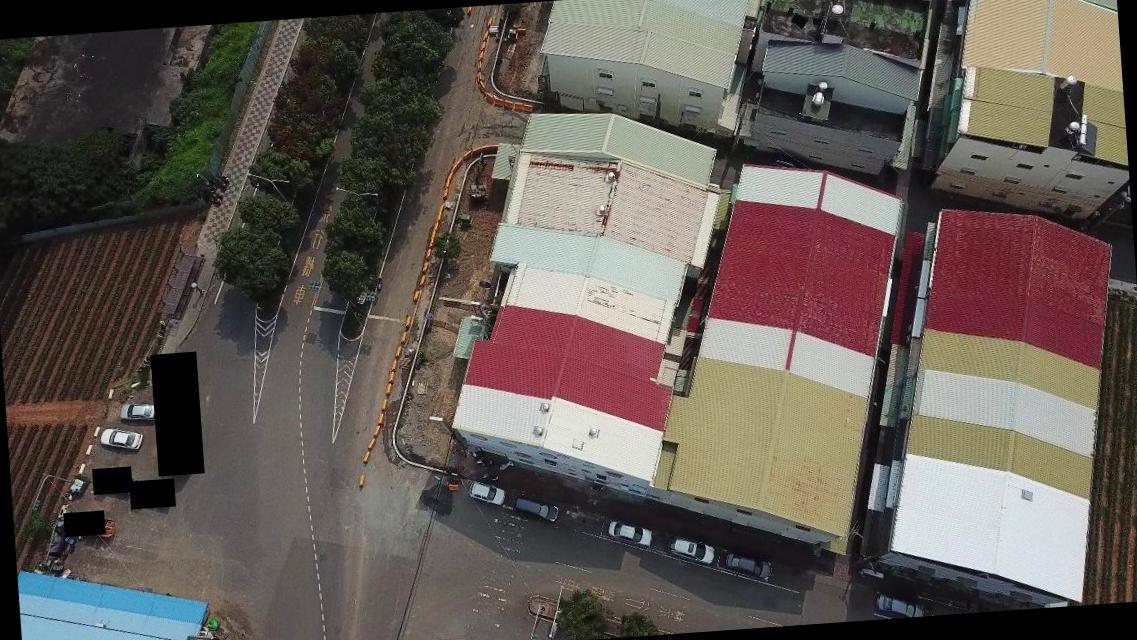vehicle: (726, 548, 778, 584), (606, 516, 653, 551), (872, 590, 928, 618), (514, 490, 558, 525), (666, 534, 714, 566), (99, 426, 143, 453), (467, 480, 506, 508), (117, 401, 159, 425)
